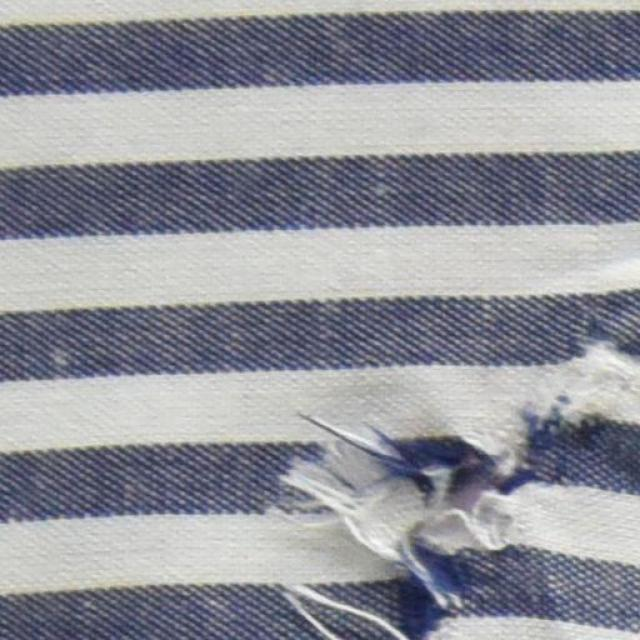cut: (353, 424, 516, 640), (516, 349, 620, 431)
